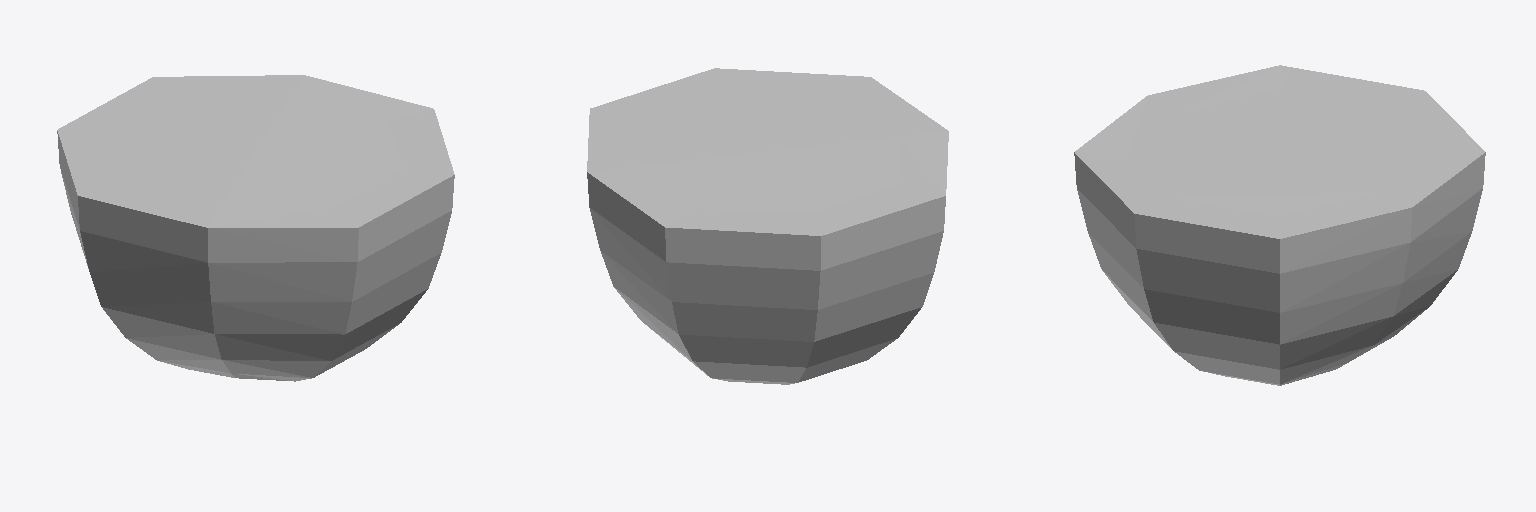
The model's file is Coconut-C.obj.
3 views of the same model, side by side, from view 1: azimuth 30°, elevation 25°; view 2: azimuth 150°, elevation 25°; view 3: azimuth 270°, elevation 25° (orthographic).
Visible parts, largest first — view 1: Cube.003; view 2: Cube.003; view 3: Cube.003.
Boxes of the visible parts, x1=… form: Cube.003: x1=57, y1=75, x2=454, y2=381; Cube.003: x1=587, y1=68, x2=948, y2=384; Cube.003: x1=1074, y1=65, x2=1485, y2=385.
Bounding box in the file's own units: 0.3685 × 0.2065 × 0.3685.